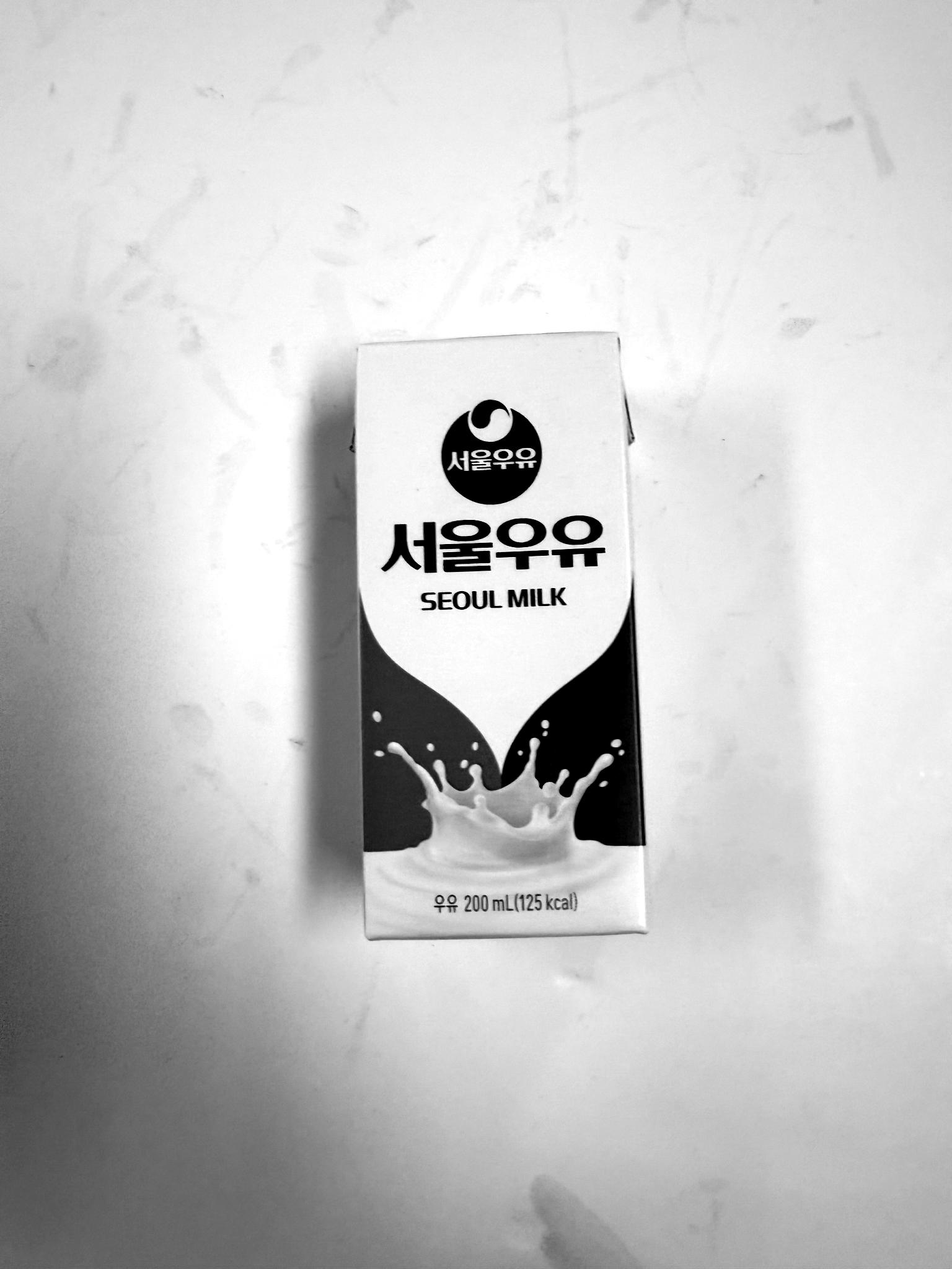milk_green: (354, 329, 644, 935)
